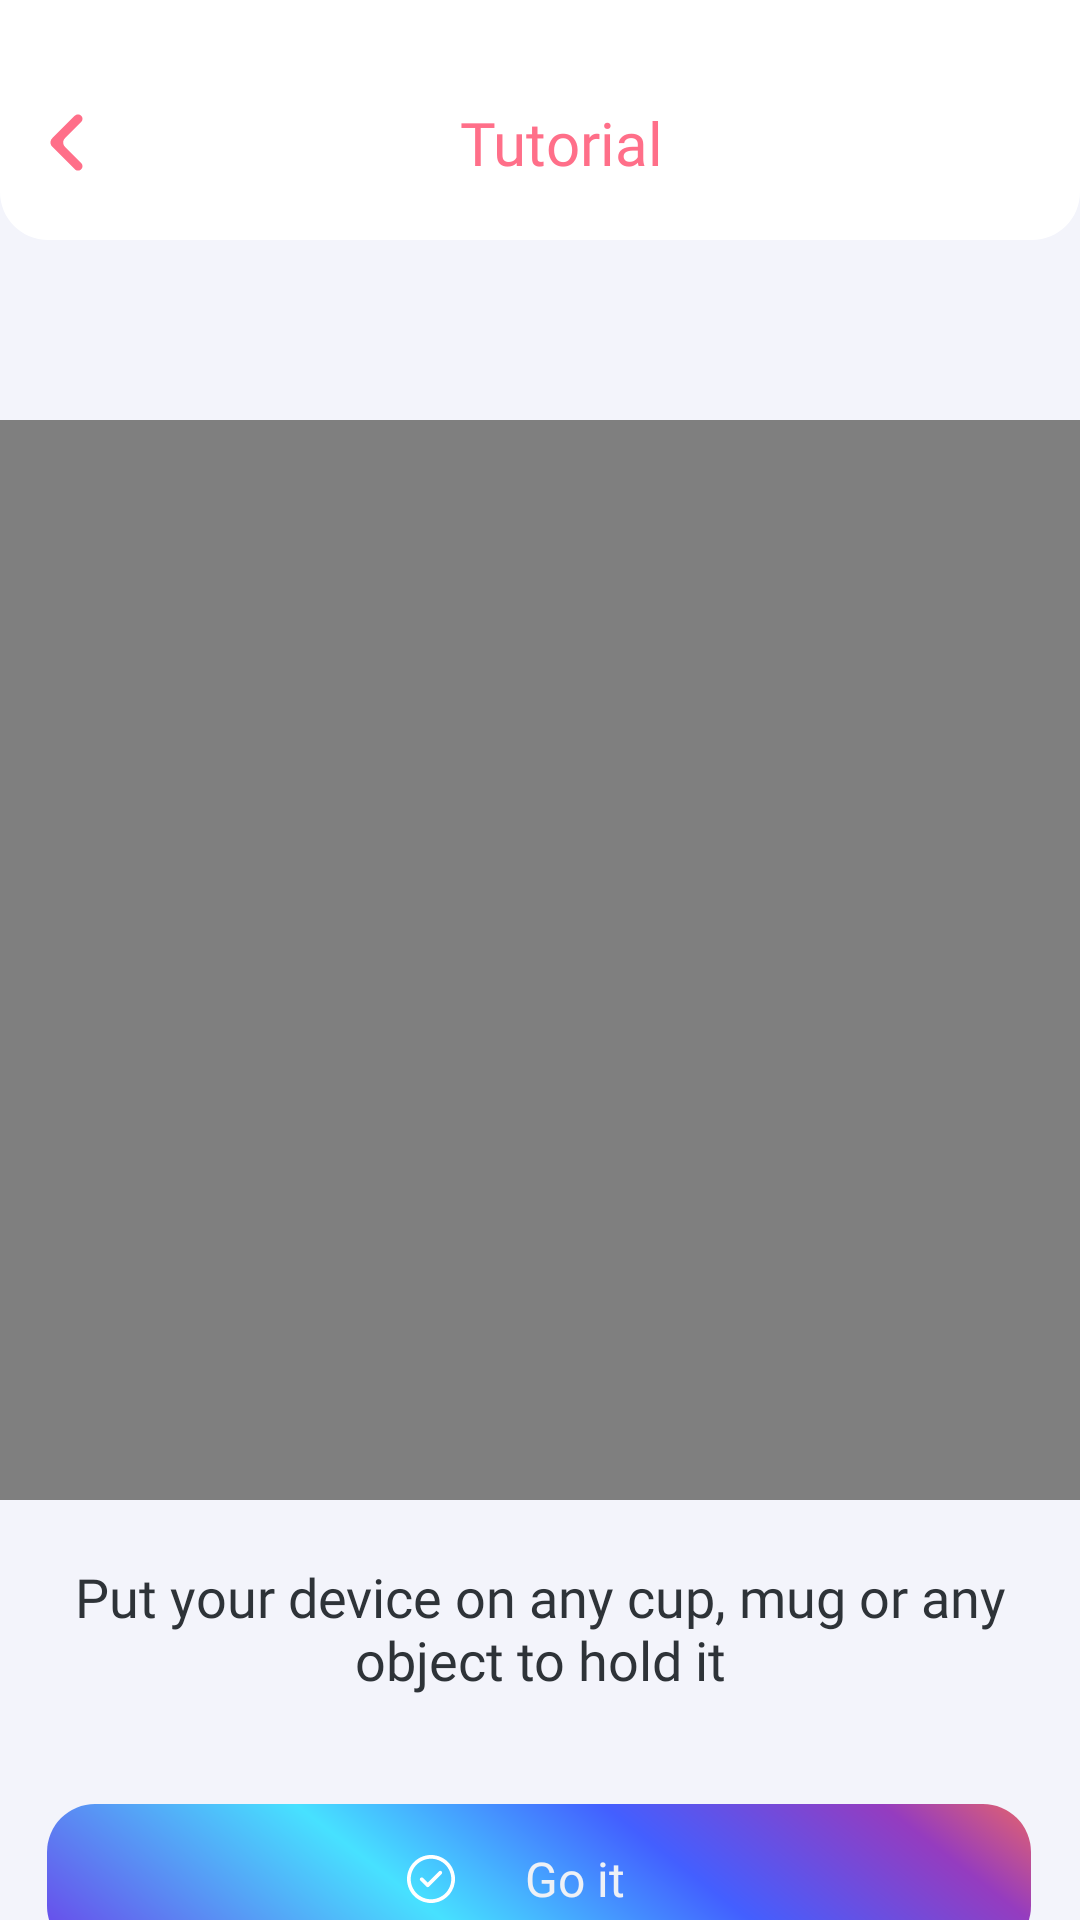

Where to tap for icons on this 1080 x 1920 app screen, as (x=x, y=y):
back: (x=66, y=142)
